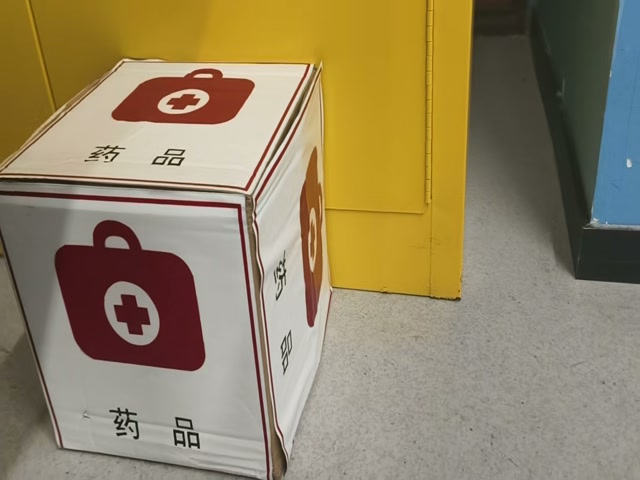Cube_medicine: (0, 61, 319, 205)
